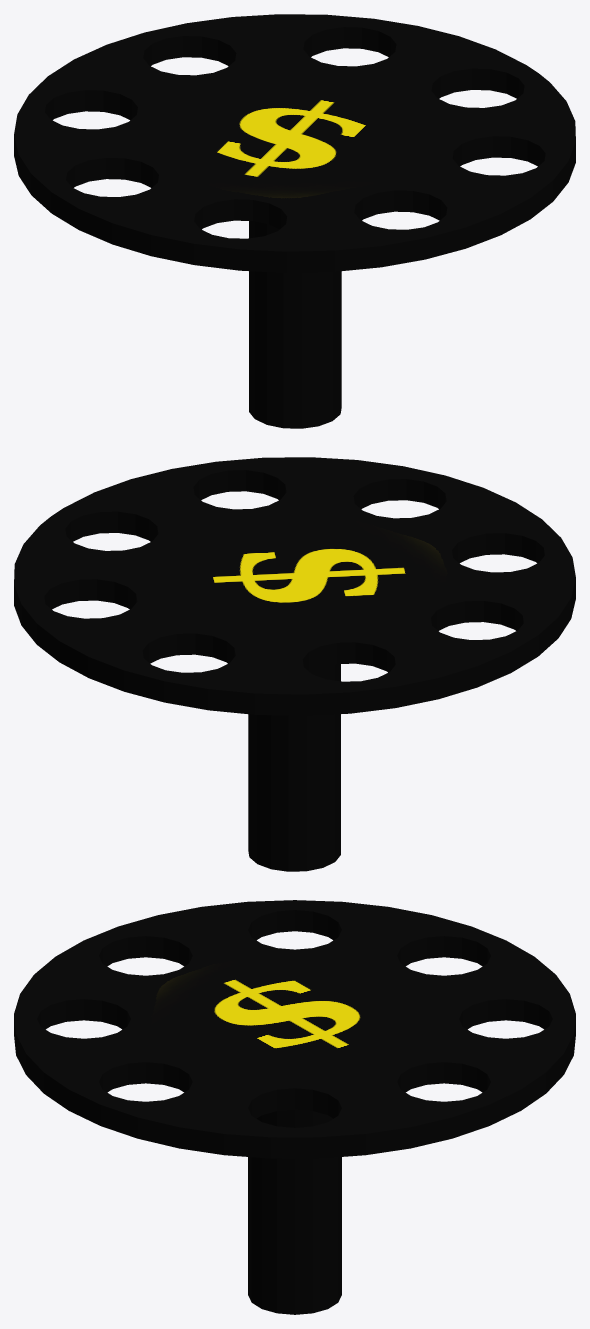
Rendered from GoldChipButton.dae.
The picture shows the model from 3 angles, top to bottom: view 1: azimuth 30°, elevation 25°; view 2: azimuth 150°, elevation 25°; view 3: azimuth 270°, elevation 25°; orthographic projection.
Visible parts, largest first — view 1: Goldchip_Button_Link; view 2: Goldchip_Button_Link; view 3: Goldchip_Button_Link.
Part boxes in pixels (bbox=[...]): Goldchip_Button_Link: bbox=[14, 14, 575, 428]; Goldchip_Button_Link: bbox=[14, 457, 575, 871]; Goldchip_Button_Link: bbox=[14, 900, 575, 1314].
Size of the model in its own units: 0.1524 by 0.1523 by 0.0825.
Materials: 1 (1 with a texture image).
